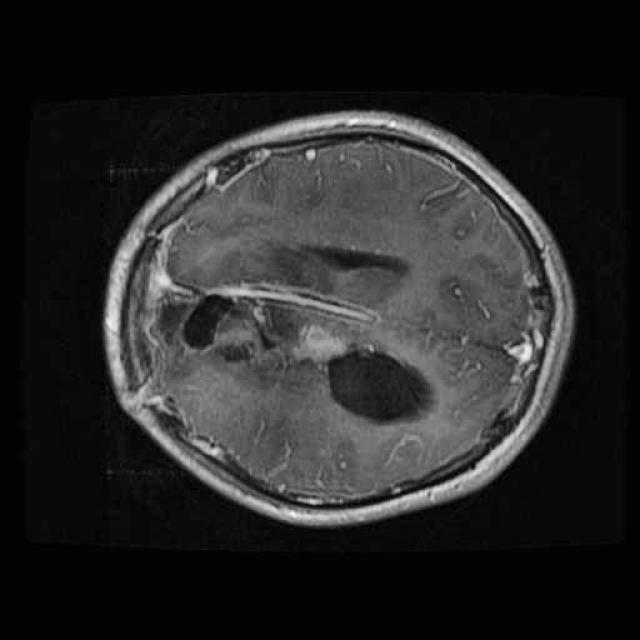Non-Tumor: (319, 342, 446, 434)
